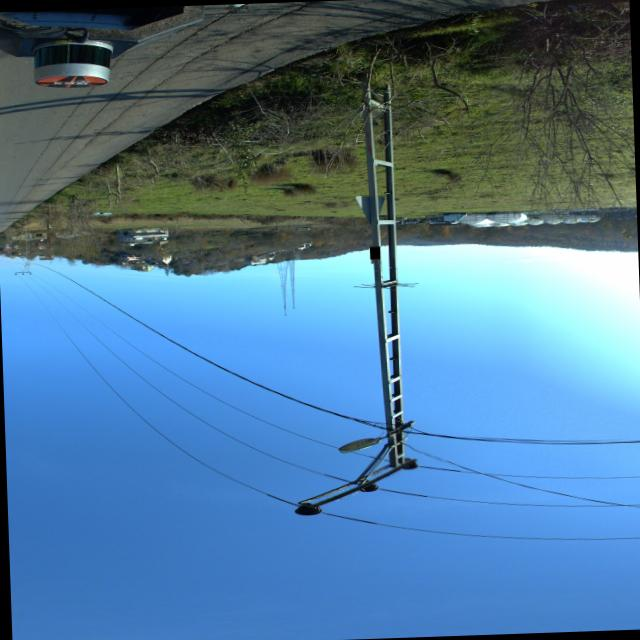Utility Pole Information Plate: (368, 245, 379, 258)
